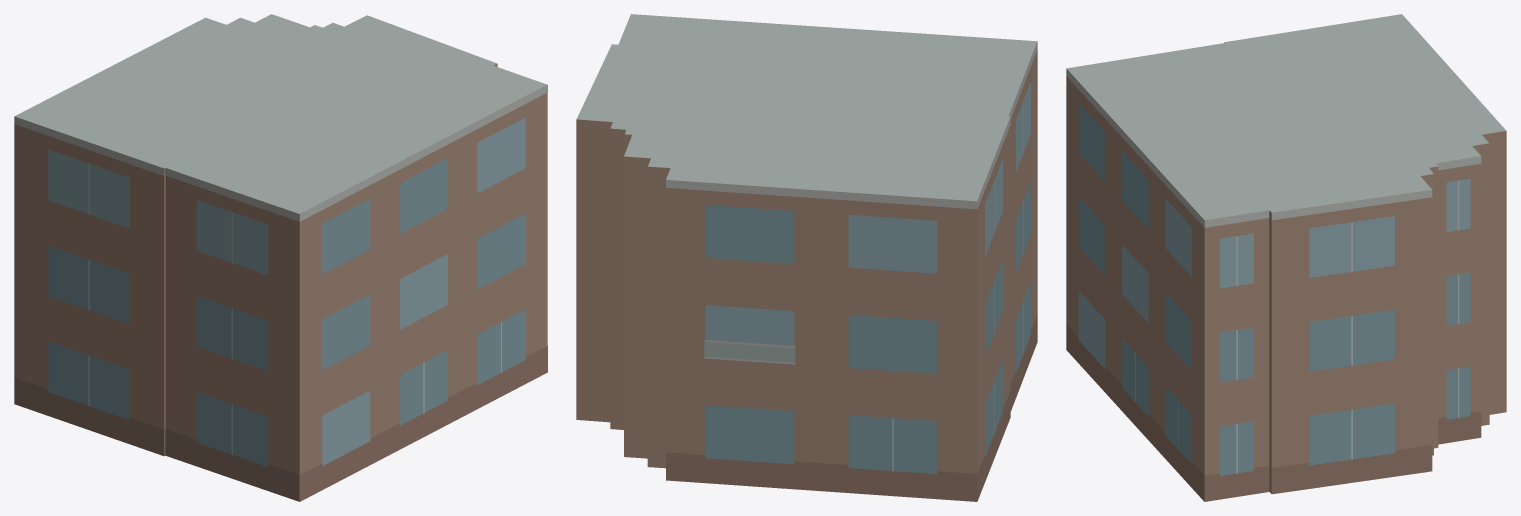
The model's file is survey-upis-33013738.glb.
3 views of the same model, side by side, from view 1: azimuth 30°, elevation 25°; view 2: azimuth 150°, elevation 25°; view 3: azimuth 270°, elevation 25° (orthographic). The views are drawn at different scales.
Parts seen in each view (by area): view 1: survey-upis-33013738.tmp; view 2: survey-upis-33013738.tmp; view 3: survey-upis-33013738.tmp.
Boxes of the visible parts, box(x1,y1,x2,y2) form: survey-upis-33013738.tmp: box(14, 14, 547, 501); survey-upis-33013738.tmp: box(576, 14, 1037, 501); survey-upis-33013738.tmp: box(1066, 14, 1506, 501).
Bounding box in the file's own units: 14.4 × 9.15 × 12.98.
